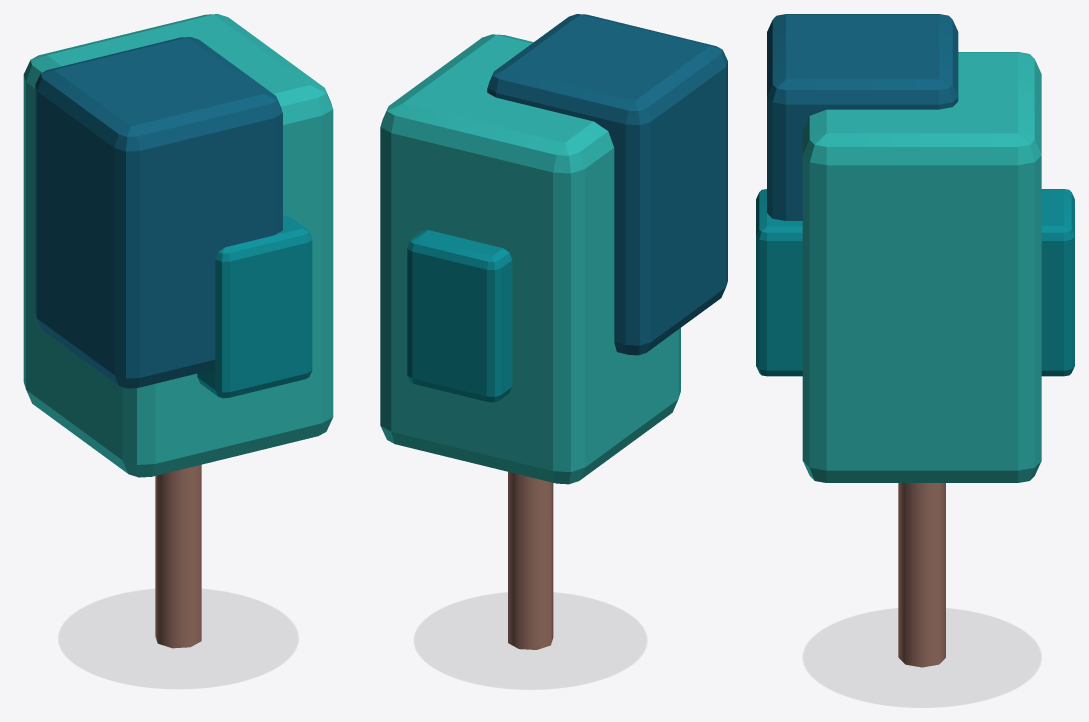
File: tree2.dae
3 renders of one model, left to right at view 1: azimuth 30°, elevation 25°; view 2: azimuth 150°, elevation 25°; view 3: azimuth 270°, elevation 25°, orthographic. The views are drawn at different scales.
Visible parts, largest first — view 1: leaves3, leaves1, leaves2, trunk; view 2: leaves1, leaves3, leaves2, trunk; view 3: leaves1, leaves3, leaves2, trunk.
Boxes of the visible parts, x1,y1,x2,y2 form: leaves3: (35, 37, 282, 388); leaves1: (23, 14, 333, 477); leaves2: (197, 215, 312, 398); trunk: (155, 464, 201, 648); leaves1: (380, 34, 680, 484); leaves3: (487, 14, 727, 355); leaves2: (407, 230, 512, 402); trunk: (508, 472, 553, 649); leaves1: (802, 52, 1041, 482); leaves3: (767, 14, 958, 220); leaves2: (756, 189, 1074, 376); trunk: (898, 483, 945, 667).
Size of the model in its own units: 114 by 271 by 133.
